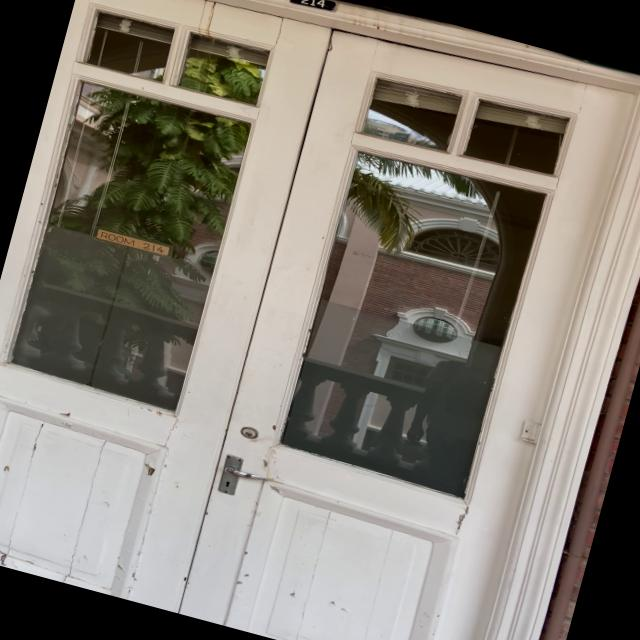room214: (286, 0, 339, 14)
room214Window: (88, 222, 178, 260)
